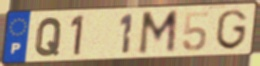1: (68, 14, 85, 58), (118, 12, 135, 55)
5: (181, 10, 211, 53)
G: (214, 8, 249, 52)
M: (136, 8, 181, 57)
Q: (33, 16, 65, 58)
